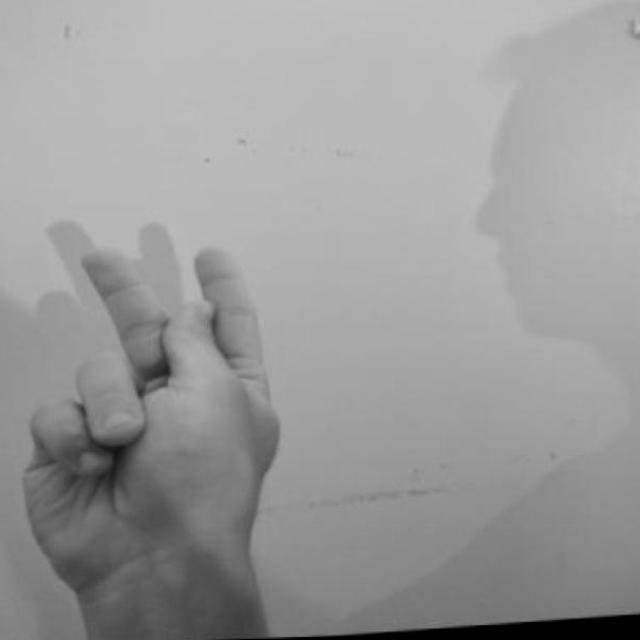K: (24, 239, 283, 617)
